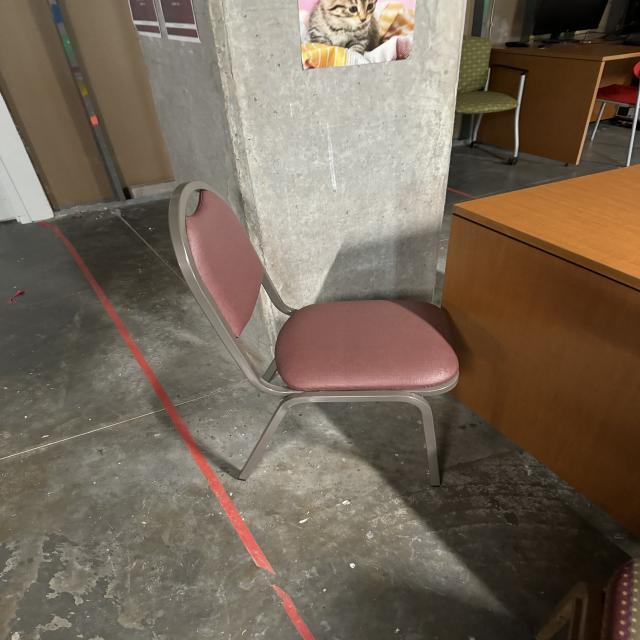chair: (173, 179, 472, 491)
